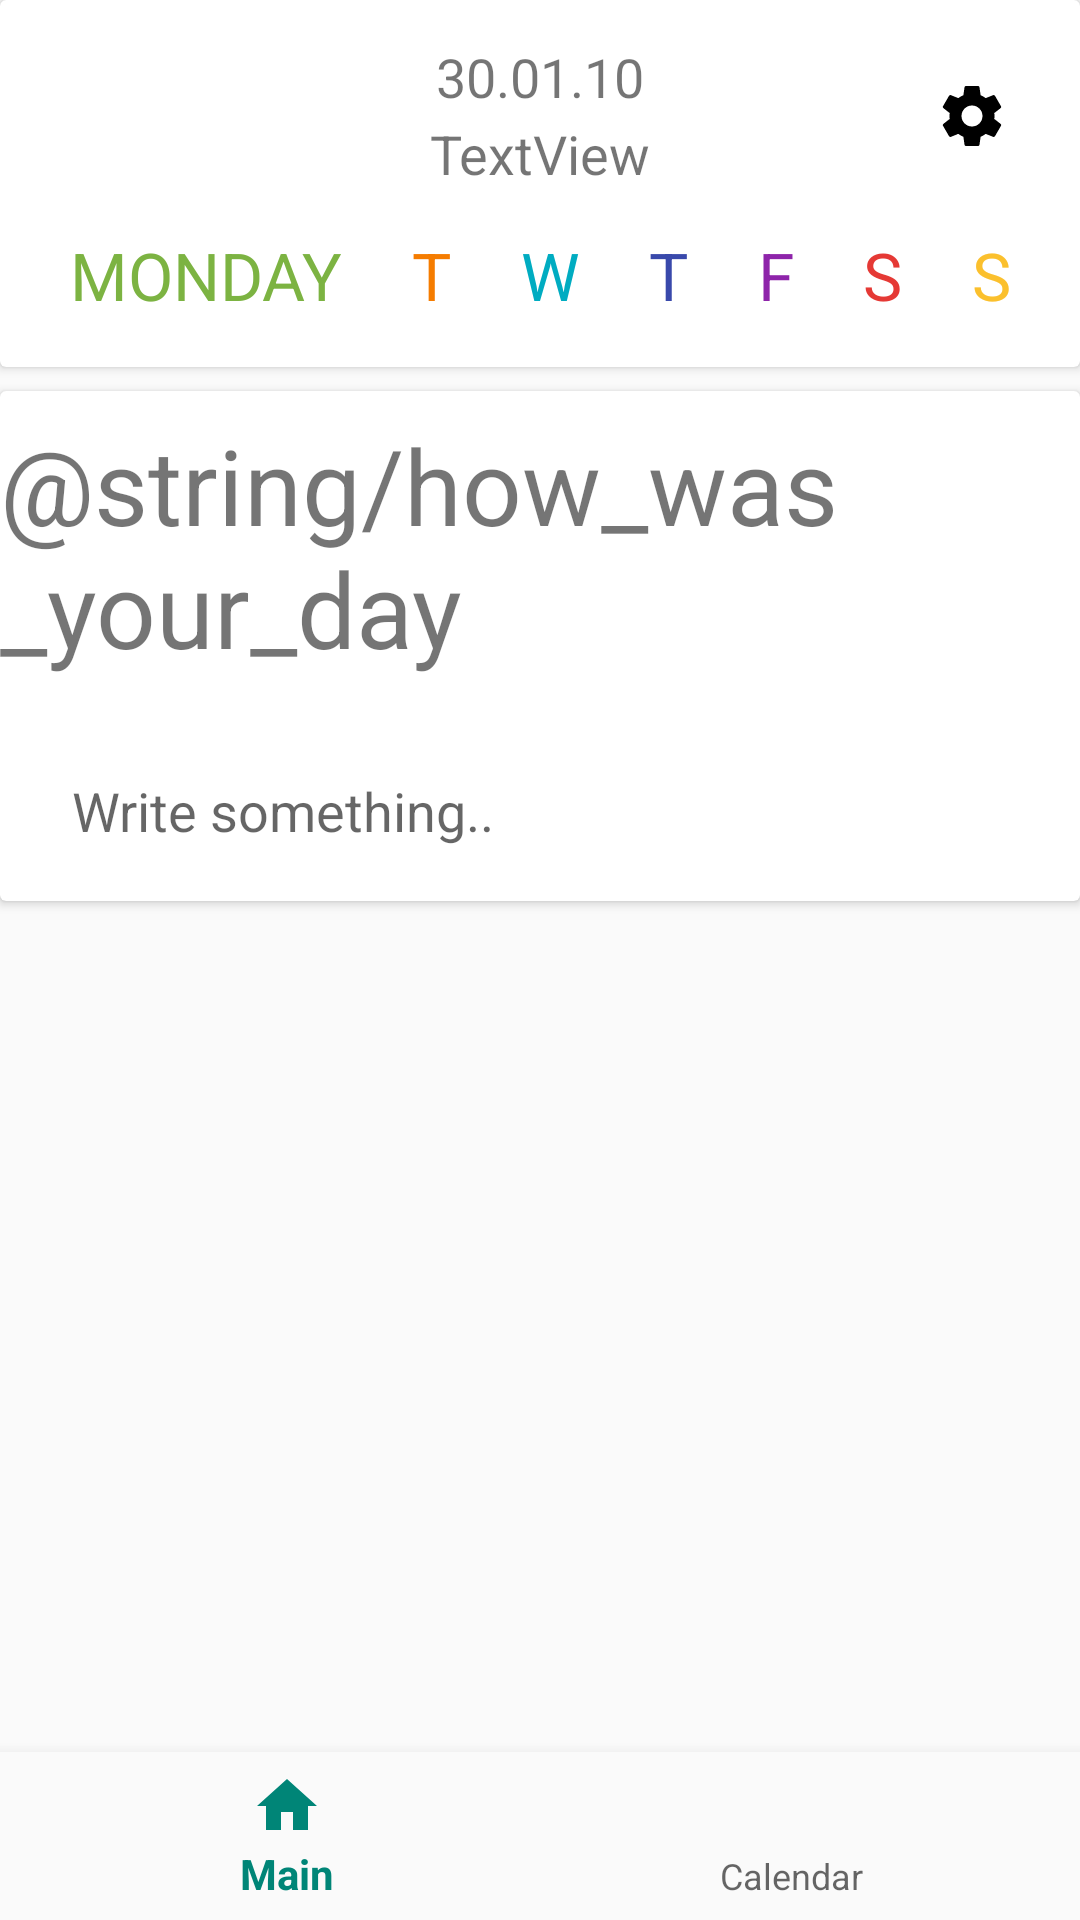

Locate icon controls on the screen. Image size 1080px×1920px, boxes as (x1, y1, x2, y2).
settings: (942, 86, 1001, 146)
